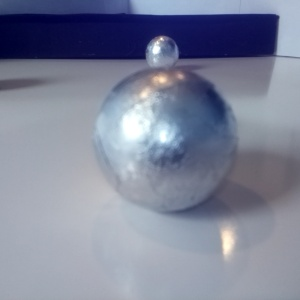zone: (1, 15, 300, 149)
